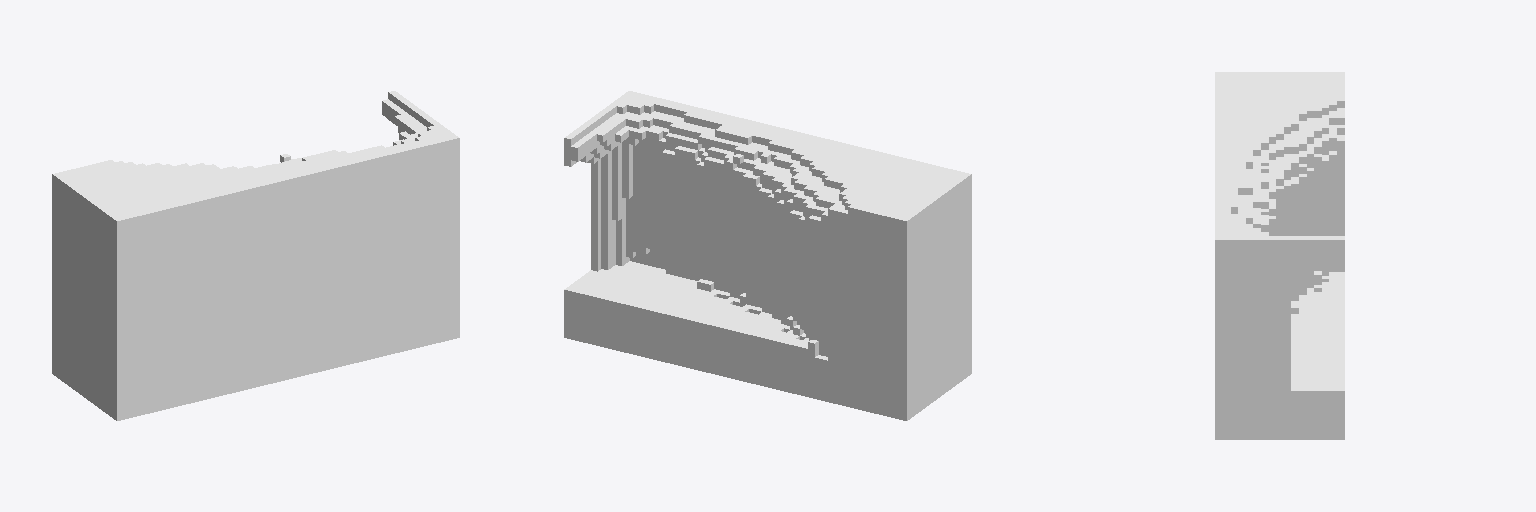
The model's file is Corridor2-1.obj.
3 views of the same model, side by side, from view 1: azimuth 30°, elevation 25°; view 2: azimuth 150°, elevation 25°; view 3: azimuth 270°, elevation 25° (orthographic).
Parts seen in each view (by area): view 1: object 1; view 2: object 1; view 3: object 1.
Boxes of the visible parts, box(x1,y1,x2,y2) form: object 1: box(52, 91, 459, 420); object 1: box(564, 91, 971, 420); object 1: box(1215, 72, 1344, 439).
Bounding box in the file's own units: 5.2 × 2.9 × 1.7.